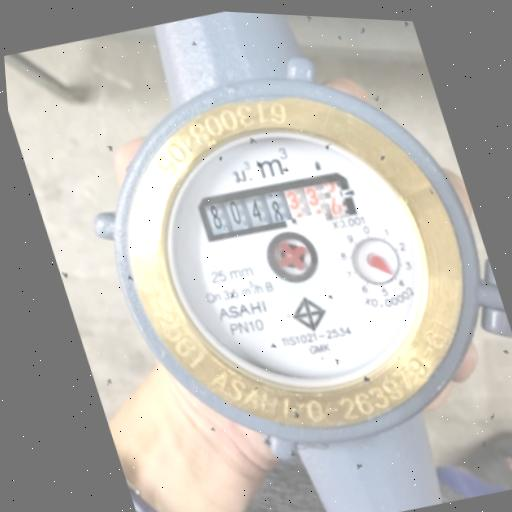0: (223, 198, 248, 233)
3: (301, 183, 326, 216), (283, 188, 306, 220)
4: (244, 195, 267, 228)
6: (321, 179, 349, 221)
8: (204, 202, 229, 237), (264, 190, 287, 223)
border_water_meter_number: (192, 161, 362, 253)
